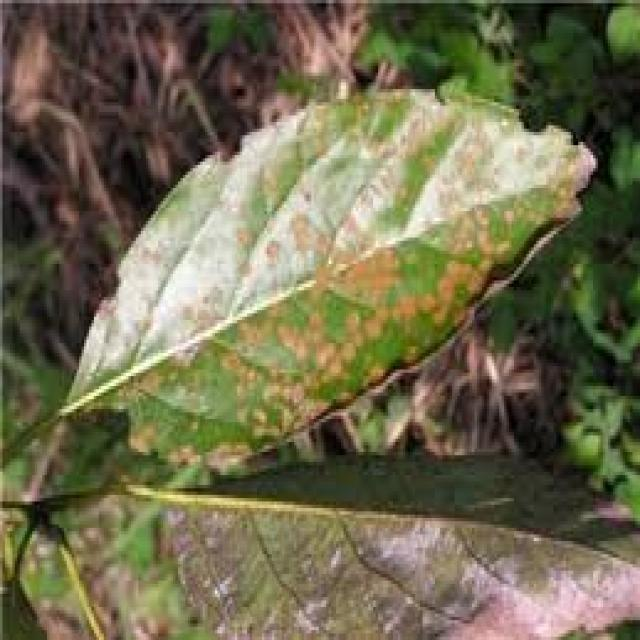leaf_spot: (55, 106, 593, 466), (57, 481, 620, 640)
